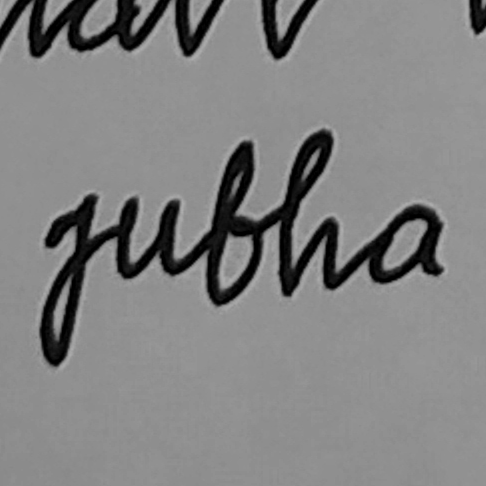a: (359, 195, 451, 290)
b: (200, 134, 270, 313)
h: (273, 122, 350, 304)
j: (30, 188, 106, 373)
u: (109, 189, 187, 291)
